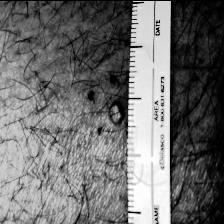Toxin: (100, 76, 124, 152)
